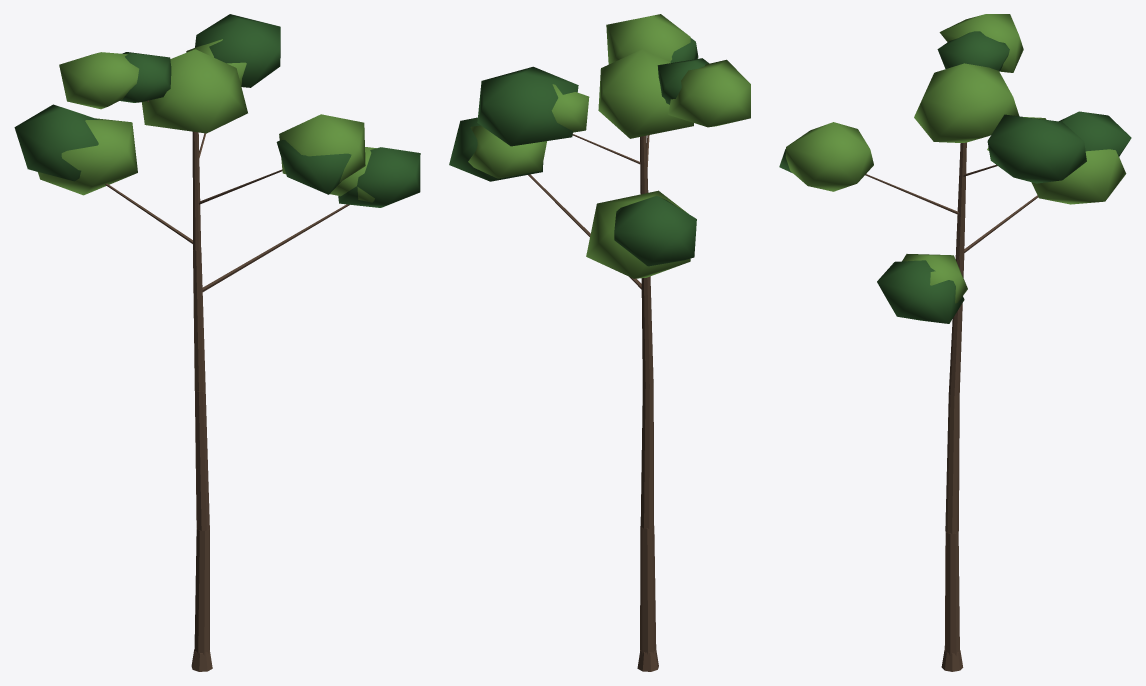
Rendered from v13-pohon-lurus.glb.
3 views of the same model, side by side, from view 1: azimuth 30°, elevation 25°; view 2: azimuth 150°, elevation 25°; view 3: azimuth 270°, elevation 25° (orthographic). The views are drawn at different scales.
Parts seen in each view (by area): view 1: EX_unri:daun-terang.004, EX_unri:daun-gelap.004, EX_unri:kulit-kayu.004; view 2: EX_unri:daun-terang.004, EX_unri:daun-gelap.004, EX_unri:kulit-kayu.004; view 3: EX_unri:daun-terang.004, EX_unri:daun-gelap.004, EX_unri:kulit-kayu.004.
Boxes of the visible parts, x1,y1,x2,y2 form: EX_unri:daun-terang.004: (38, 39, 376, 202); EX_unri:daun-gelap.004: (14, 14, 420, 207); EX_unri:kulit-kayu.004: (105, 100, 349, 671); EX_unri:daun-terang.004: (468, 14, 750, 278); EX_unri:daun-gelap.004: (449, 38, 709, 266); EX_unri:kulit-kayu.004: (528, 134, 658, 671); EX_unri:daun-terang.004: (785, 14, 1126, 303); EX_unri:daun-gelap.004: (779, 31, 1131, 323); EX_unri:kulit-kayu.004: (865, 142, 1038, 671).
Bounding box in the file's own units: 10.89 × 20.27 × 10.57.
